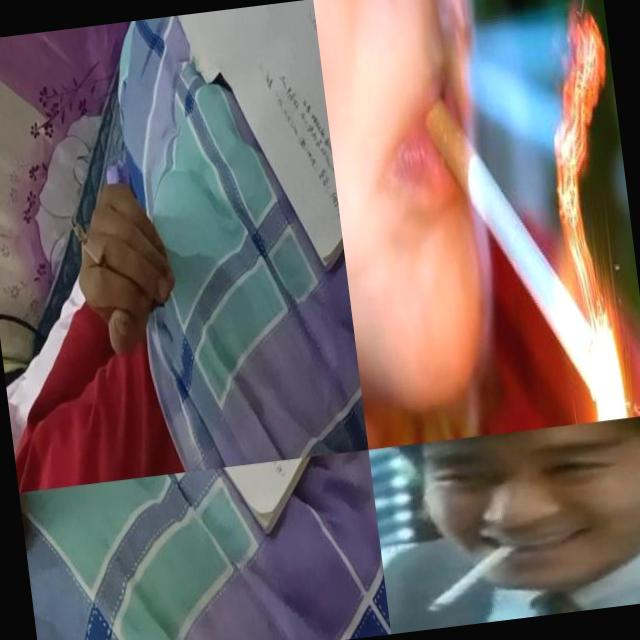cigarette: (419, 68, 595, 390), (417, 536, 532, 613), (72, 220, 110, 277)
